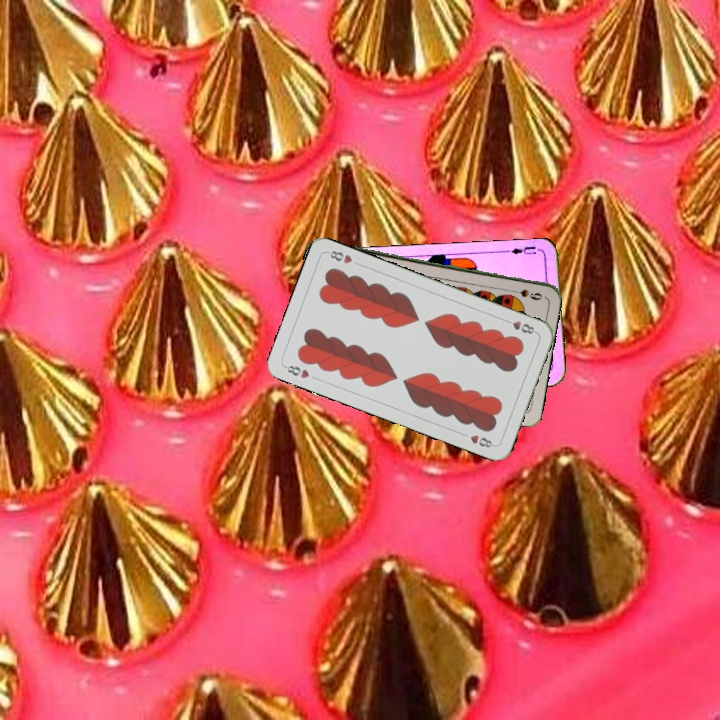EU: (507, 242, 538, 257)
H8: (500, 315, 539, 337), (281, 361, 312, 381)
S9: (505, 285, 544, 302)
